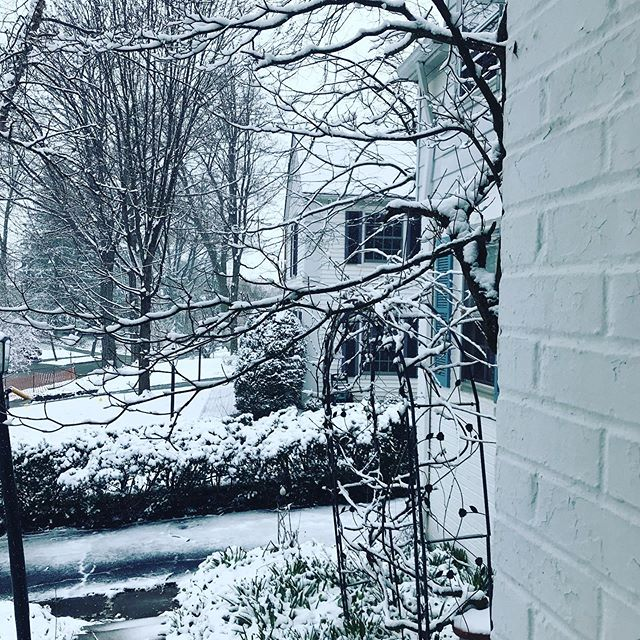building: (413, 29, 501, 447), (297, 142, 431, 382)
tree: (1, 1, 263, 373), (229, 12, 524, 306)
vegetation: (3, 415, 421, 506)
